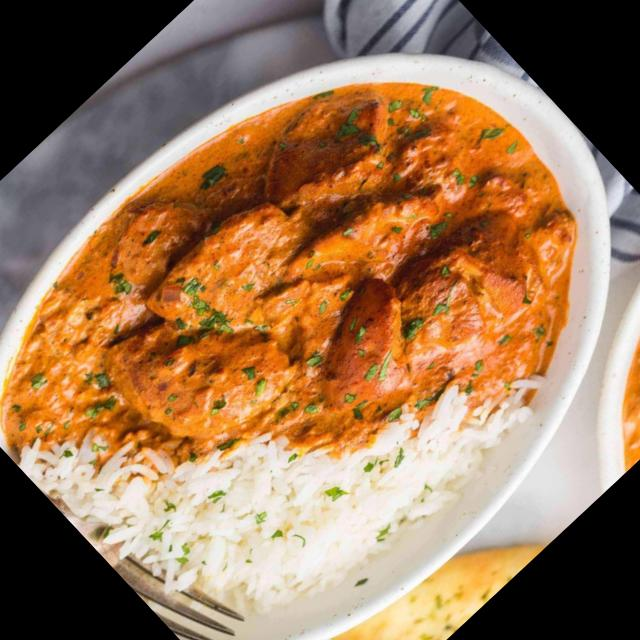chicken: (34, 0, 579, 524)
rice: (252, 390, 486, 616), (113, 400, 338, 620)
